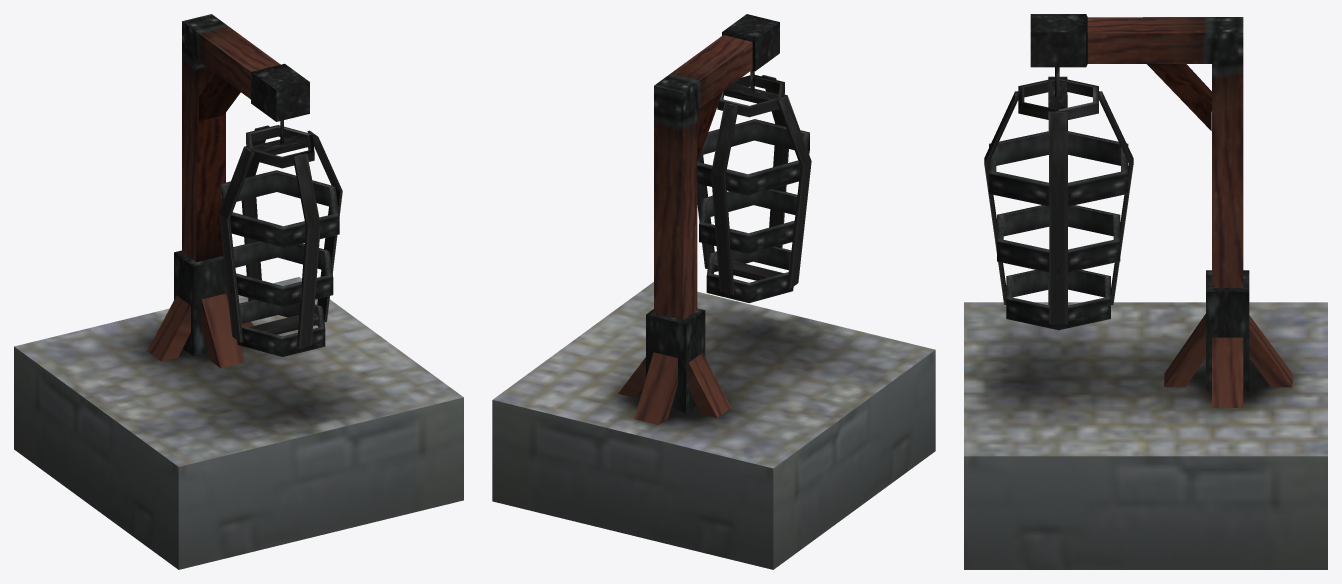
File: med_tile_boundary_cage.obj
3 views of the same model, side by side, from view 1: azimuth 30°, elevation 25°; view 2: azimuth 150°, elevation 25°; view 3: azimuth 270°, elevation 25° (orthographic). The views are drawn at different scales.
Visible parts, largest first — view 1: boundary_cage; view 2: boundary_cage; view 3: boundary_cage.
Boxes of the visible parts, left/top/right/bottom form: boundary_cage: left=14, top=14, right=463, bottom=569; boundary_cage: left=492, top=14, right=935, bottom=569; boundary_cage: left=964, top=14, right=1327, bottom=569.
Size of the model in its own units: 1 by 1.43 by 1.
1 material, 1 textured.
